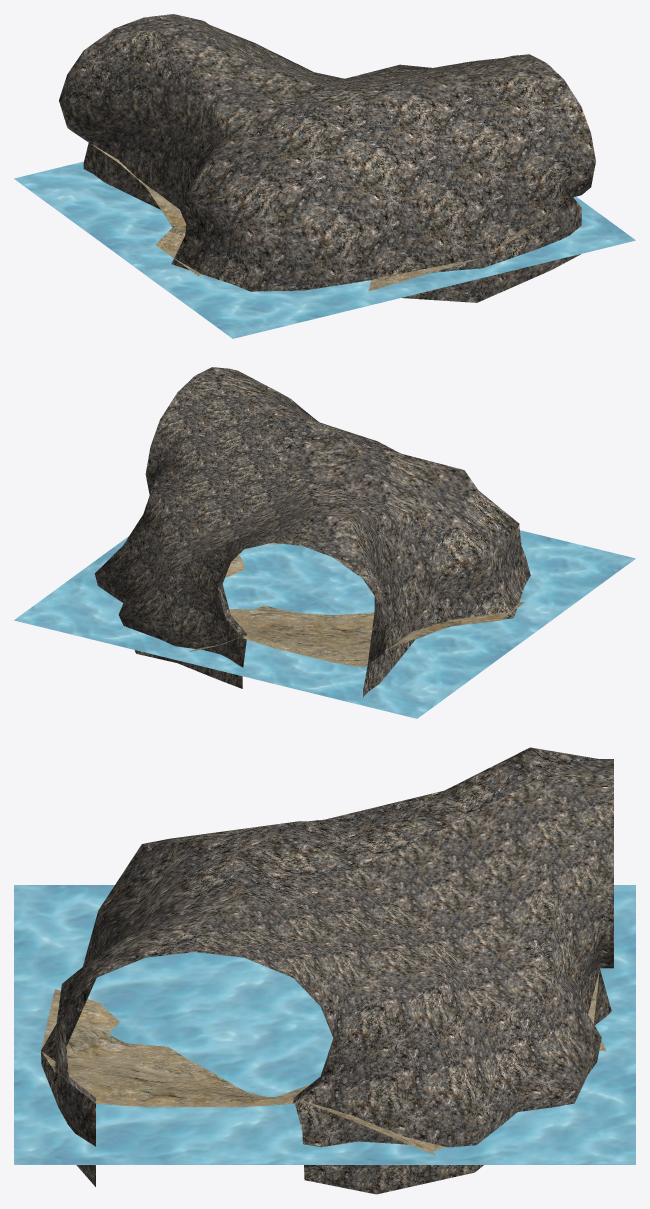
File: pir_m_are_cav_curveWide_water2.fbx
3 renders of one model, top to bottom at view 1: azimuth 30°, elevation 25°; view 2: azimuth 150°, elevation 25°; view 3: azimuth 270°, elevation 25°, orthographic. The views are drawn at different scales.
Parts seen in each view (by area): view 1: standardCurveWide_left_wall1, water_top, curveWide_floor, water_bottom; view 2: standardCurveWide_left_wall1, water_top, curveWide_floor, water_bottom; view 3: standardCurveWide_left_wall1, water_top, curveWide_floor, water_bottom.
Part boxes in pixels (<box>): standardCurveWide_left_wall1: <box>59,14,595,302</box>; water_top: <box>14,161,635,338</box>; curveWide_floor: <box>91,144,547,291</box>; water_bottom: <box>14,179,635,338</box>; standardCurveWide_left_wall1: <box>94,367,530,697</box>; water_top: <box>14,530,635,718</box>; curveWide_floor: <box>140,542,524,667</box>; water_bottom: <box>14,558,635,718</box>; standardCurveWide_left_wall1: <box>41,747,613,1194</box>; water_top: <box>14,885,635,1164</box>; curveWide_floor: <box>41,970,606,1155</box>; water_bottom: <box>14,1164,635,1164</box>.
Size of the model in its own units: 23678 by 10210 by 22257.
3 materials, 3 textured.
